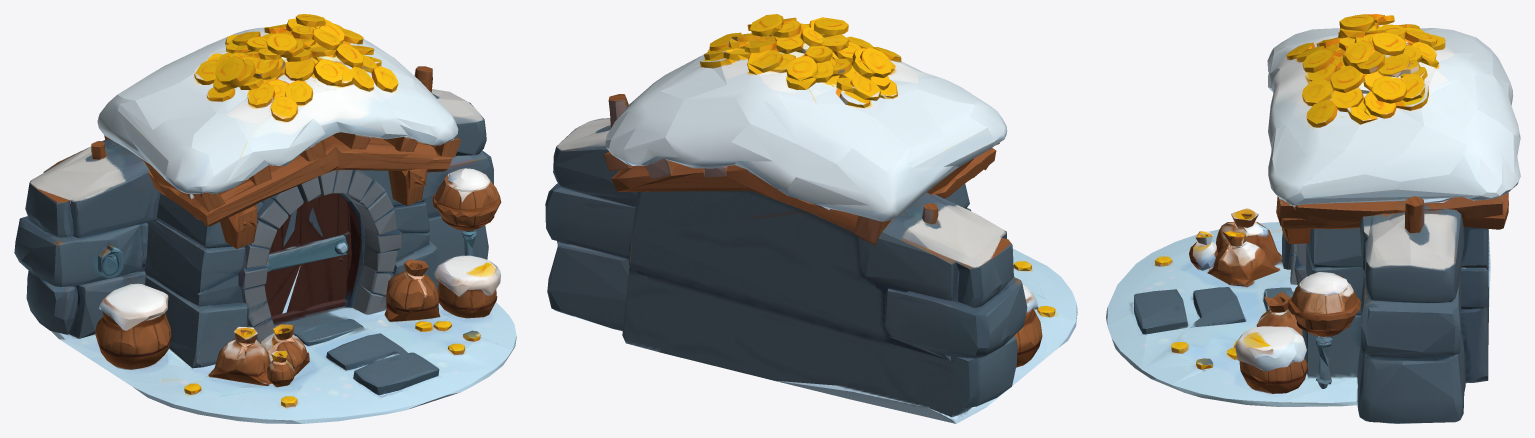
Rendered from treasury.glb.
The picture shows the model from 3 angles, left to right: view 1: azimuth 30°, elevation 25°; view 2: azimuth 150°, elevation 25°; view 3: azimuth 270°, elevation 25°; orthographic projection. The views are drawn at different scales.
Bounding box in the file's own units: 1.9 × 1.22 × 1.52.
1 material, 1 textured.
